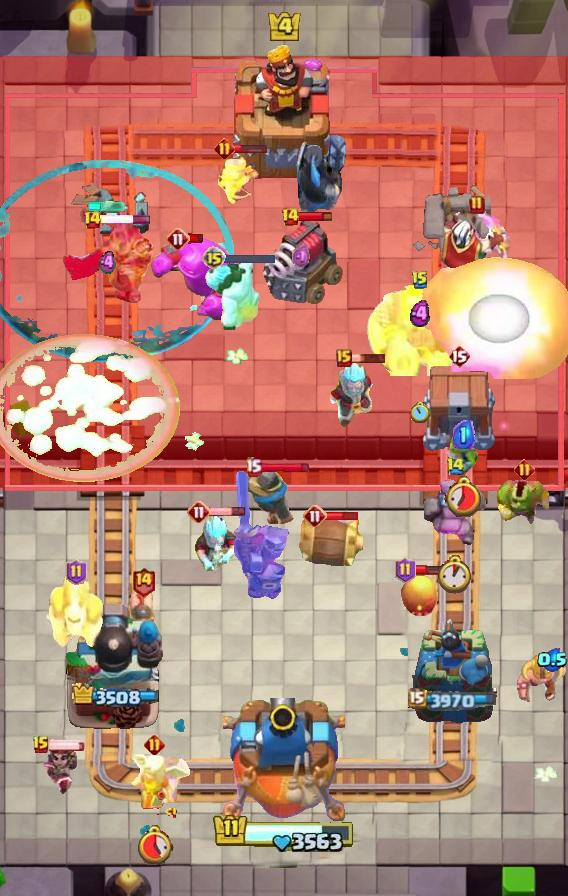bomb: (420, 366, 498, 452)
bomber-evolution: (35, 748, 79, 796)
cannon: (215, 153, 261, 205)
clock: (212, 813, 356, 855)
clone: (149, 236, 245, 322)
electro-spirit: (537, 648, 567, 672), (453, 420, 475, 448), (410, 300, 430, 328), (292, 243, 312, 268), (99, 250, 117, 276)
elixir: (444, 475, 484, 517), (135, 823, 174, 864), (436, 554, 474, 594), (411, 401, 430, 422)
elixir-golem-small: (46, 575, 106, 653)
emote: (224, 251, 276, 264), (258, 461, 310, 474), (99, 215, 153, 226), (298, 209, 334, 222), (48, 739, 86, 751), (349, 352, 386, 364), (233, 142, 268, 154), (325, 510, 360, 522), (209, 507, 246, 518), (413, 564, 446, 576), (187, 232, 204, 244)
executioner: (127, 586, 159, 640)
firecracker: (241, 457, 295, 526)
flying-machine: (494, 474, 554, 528)
giant-skeleton: (365, 282, 475, 376)
goblin-giant: (514, 652, 568, 706)
golem: (260, 217, 344, 307)
hog: (400, 574, 440, 618)
ice-spirit: (87, 201, 127, 213)
inferno-dragon: (290, 131, 350, 225)
inferno-tower: (59, 221, 155, 305)
king-tower: (223, 698, 345, 826), (230, 43, 338, 181)
mortar: (323, 358, 389, 430), (193, 513, 241, 573)
pad_0: (0, 160, 234, 366)
phoenix-big: (0, 332, 180, 483)
poison: (114, 747, 194, 819)
queen-tower: (409, 616, 497, 731)
rage: (204, 260, 262, 330)
selected: (69, 684, 158, 709), (409, 688, 500, 712)
skeleton-king: (440, 205, 514, 279)
text: (131, 567, 156, 598), (166, 227, 190, 251), (202, 246, 226, 270), (187, 500, 211, 524), (303, 504, 327, 528), (396, 557, 417, 583), (66, 559, 87, 585), (448, 344, 470, 368), (144, 733, 165, 755), (213, 138, 234, 159), (513, 460, 534, 481), (280, 207, 299, 227), (83, 210, 102, 230), (446, 456, 466, 475), (411, 270, 429, 290), (32, 735, 50, 755), (245, 458, 263, 477), (469, 195, 485, 215), (336, 349, 352, 367)
the-log: (292, 515, 366, 567)
tower-bar: (64, 601, 164, 731)
valkyrie: (420, 257, 568, 379)
valkyrie-evolution: (424, 473, 486, 549)
wall-breaker-evolution: (230, 469, 294, 603)
zap: (444, 432, 484, 476)
